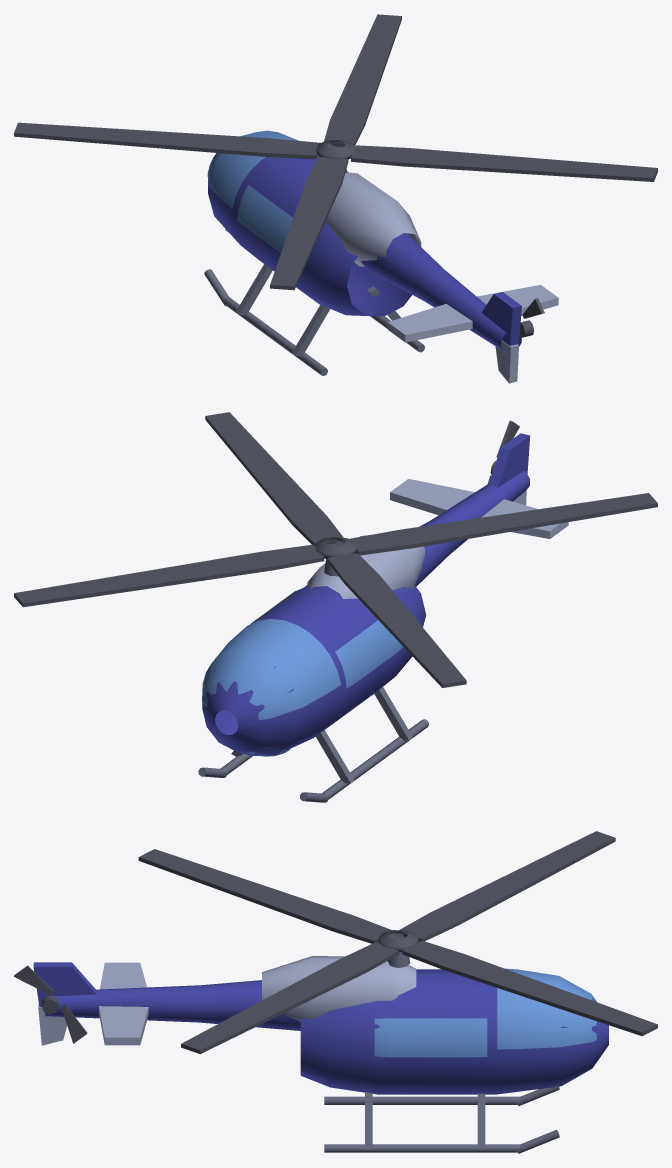
File: helicoptere.glb
3 renders of one model, top to bottom at view 1: azimuth 30°, elevation 25°; view 2: azimuth 150°, elevation 25°; view 3: azimuth 270°, elevation 25°, orthographic. The views are drawn at different scales.
Visible parts, largest first — view 1: cabine, pale-2, pale-0, poutre-queue, capot-turbine, pale-1, pale-3, vitre-porte-gauche, verriere-nez, stabilisateur-g, derive, patin-gauche (+5 smaller); view 2: cabine, verriere-nez, pale-3, pale-1, pale-0, pale-2, poutre-queue, capot-turbine, vitre-porte-gauche, stabilisateur-d, derive, patin-gauche (+4 smaller); view 3: cabine, poutre-queue, pale-3, pale-1, verriere-nez, pale-2, pale-0, capot-turbine, vitre-porte-droite, stabilisateur-d, patin-droite, patin-gauche (+5 smaller).
Boxes of the visible parts, bbox=[...] form: cabine: bbox=[208, 156, 411, 316]; pale-2: bbox=[351, 145, 657, 181]; pale-0: bbox=[14, 122, 320, 159]; poutre-queue: bbox=[353, 233, 521, 352]; capot-turbine: bbox=[325, 172, 421, 266]; pale-1: bbox=[270, 156, 348, 290]; pale-3: bbox=[324, 14, 401, 146]; vitre-porte-gauche: bbox=[237, 185, 292, 252]; verriere-nez: bbox=[207, 130, 298, 208]; stabilisateur-g: bbox=[387, 304, 472, 342]; derive: bbox=[481, 292, 521, 345]; patin-gauche: bbox=[223, 297, 327, 375]; cabine: bbox=[202, 585, 426, 756]; verriere-nez: bbox=[202, 619, 340, 720]; pale-3: bbox=[14, 544, 324, 607]; pale-1: bbox=[349, 493, 657, 555]; pale-0: bbox=[327, 553, 466, 687]; pale-2: bbox=[205, 412, 343, 546]; poutre-queue: bbox=[415, 471, 529, 586]; capot-turbine: bbox=[307, 535, 424, 598]; vitre-porte-gauche: bbox=[335, 620, 402, 688]; stabilisateur-d: bbox=[390, 479, 474, 515]; derive: bbox=[488, 433, 530, 487]; patin-gauche: bbox=[322, 719, 428, 799]; cabine: bbox=[300, 969, 608, 1094]; poutre-queue: bbox=[45, 980, 300, 1030]; pale-3: bbox=[402, 940, 657, 1036]; pale-1: bbox=[138, 849, 391, 943]; verriere-nez: bbox=[497, 968, 596, 1049]; pale-2: bbox=[181, 942, 398, 1054]; pale-0: bbox=[399, 831, 615, 941]; capot-turbine: bbox=[262, 956, 416, 1021]; vitre-porte-droite: bbox=[374, 1018, 487, 1057]; stabilisateur-d: bbox=[99, 1006, 148, 1045]; patin-droite: bbox=[324, 1144, 519, 1152]; patin-gauche: bbox=[324, 1096, 519, 1104].
Bounding box in the file's own units: 0.4376 × 0.1811 × 0.5427.
